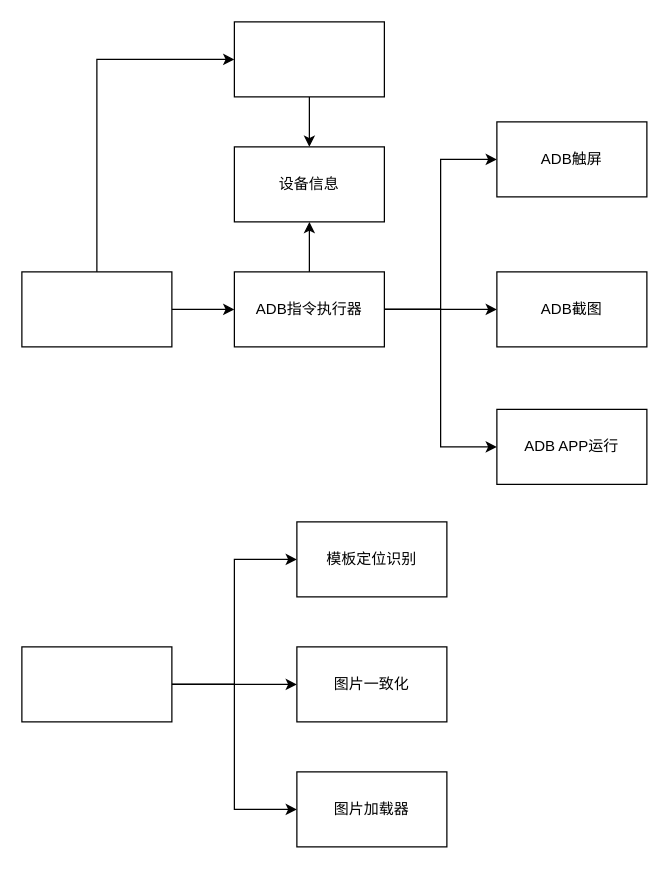
The diagram is 669 pixels wide and 869 high, and some of its shapes have lost their labels. The shapes that lost their labels are listed below. From the top down, each one's centre as x and y in pixels, then its label:
point 308,59: ADB启动器
point 96,309: ADB
point 96,684: VC
